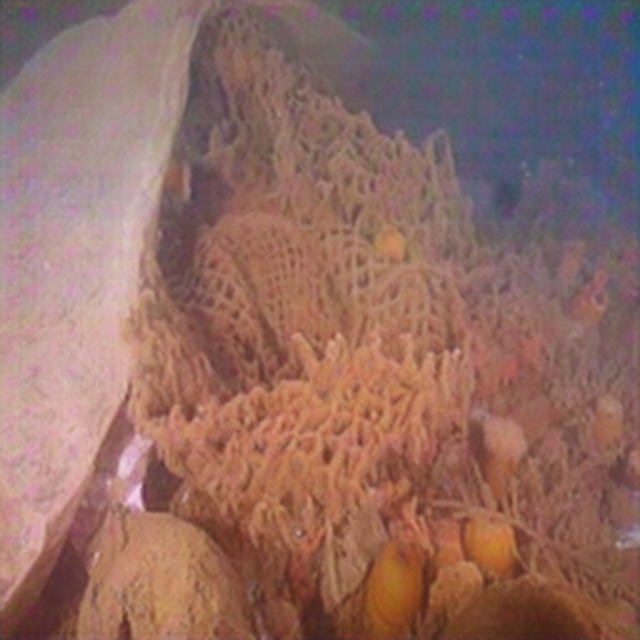mine: (117, 0, 482, 558)
